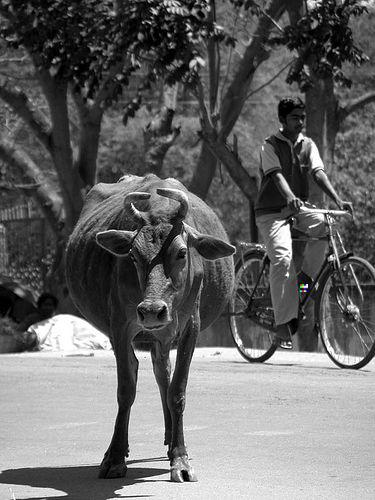car: (233, 203, 375, 373)
cow: (61, 167, 239, 483)
person: (256, 99, 355, 349)
